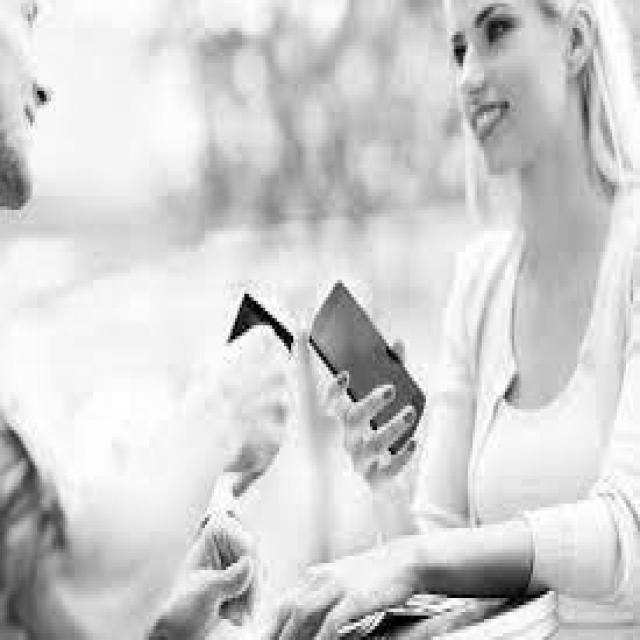No gun_phone: (312, 283, 427, 457), (227, 298, 293, 355)
